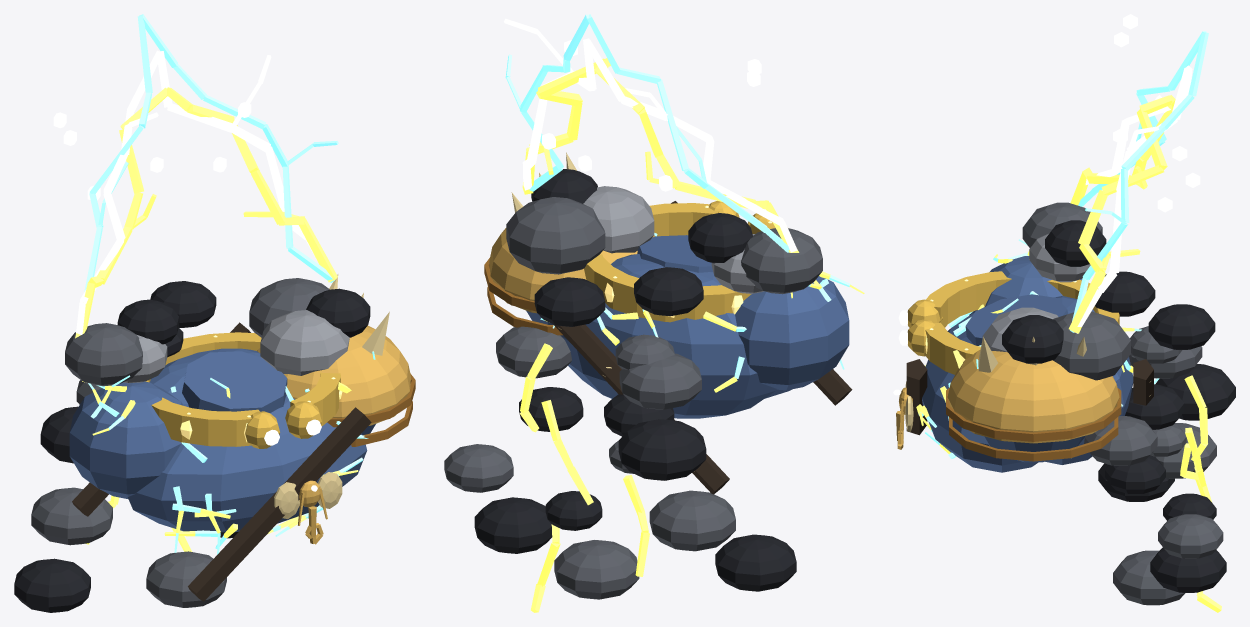
File: vorlaug_chest.glb
3 views of the same model, side by side, from view 1: azimuth 30°, elevation 25°; view 2: azimuth 150°, elevation 25°; view 3: azimuth 270°, elevation 25° (orthographic). The views are drawn at different scales.
Visible parts, largest first — view 1: vorlaug_chest; view 2: vorlaug_chest; view 3: vorlaug_chest.
Boxes of the visible parts, box(x1,y1,x2,y2) form: vorlaug_chest: box(14, 14, 415, 612); vorlaug_chest: box(444, 14, 864, 612); vorlaug_chest: box(893, 14, 1235, 612).
Bounding box in the file's own units: 1.3 × 2.16 × 1.2.
